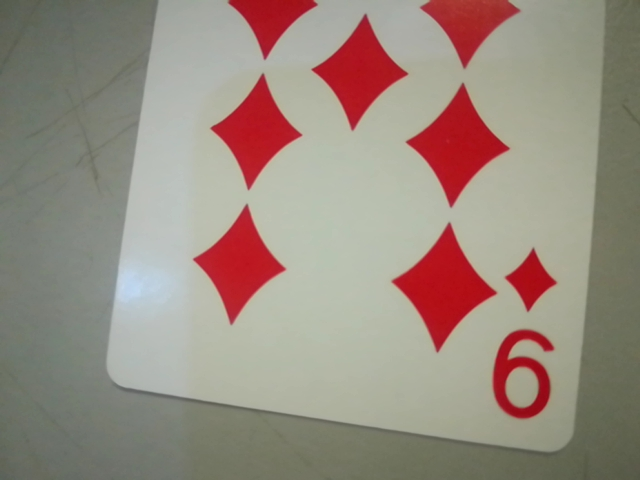fk 9: (483, 234, 575, 434)
